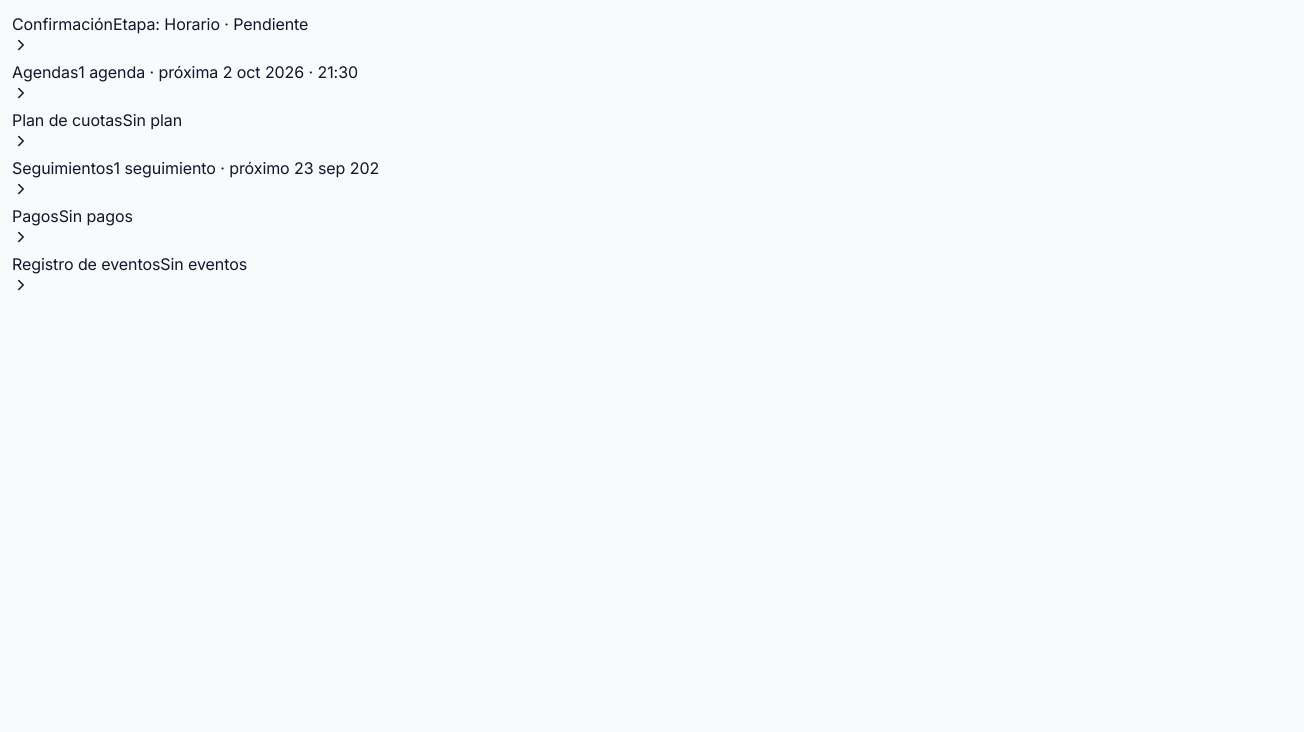
it: corregir una agenda en la fila › una fuente que la ficha ya no ofrece se lee con su etiqueta, en la fila y en el editor
Click the button "Agendas1 agenda · próxima 2 oct 2026 · 21:30" at (185, 81), box [12, 60, 358, 102]
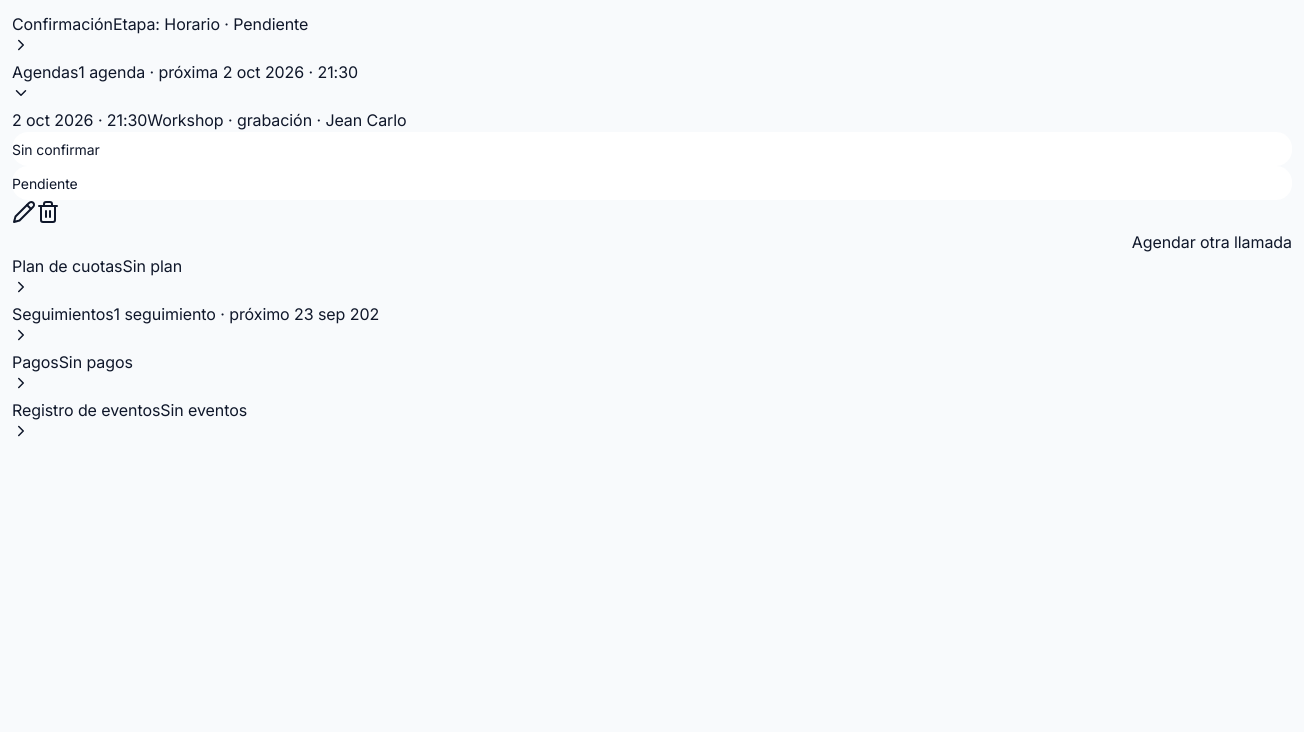
Now the text titled "Workshop · grabación · Jean Carlo" is shown, box [147, 110, 407, 130]
Click the button named "Corregir fecha, fuente y closer" at (24, 212), box [12, 200, 36, 224]
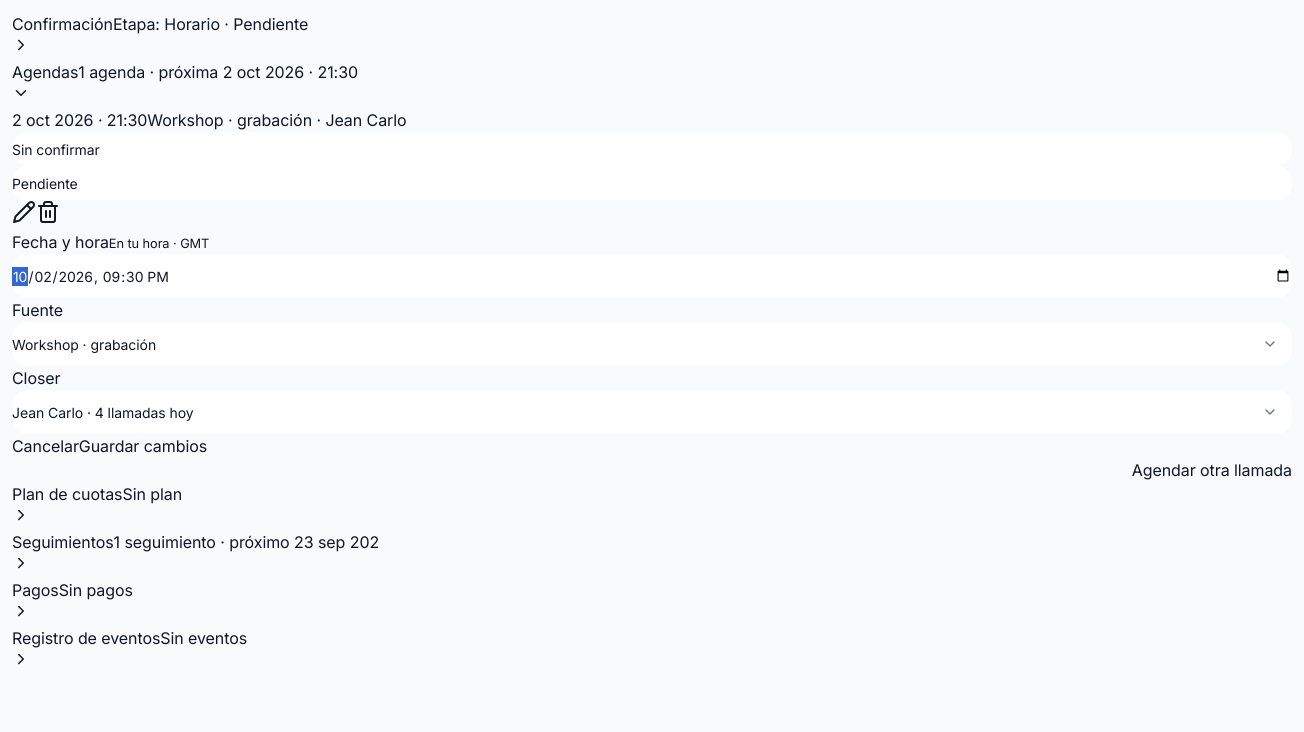
Now the dropdown named "Fuente de la agenda" shows "Workshop · grabación", box [12, 322, 1292, 366]
